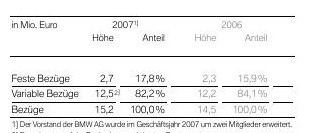table: (0, 0, 314, 133)
